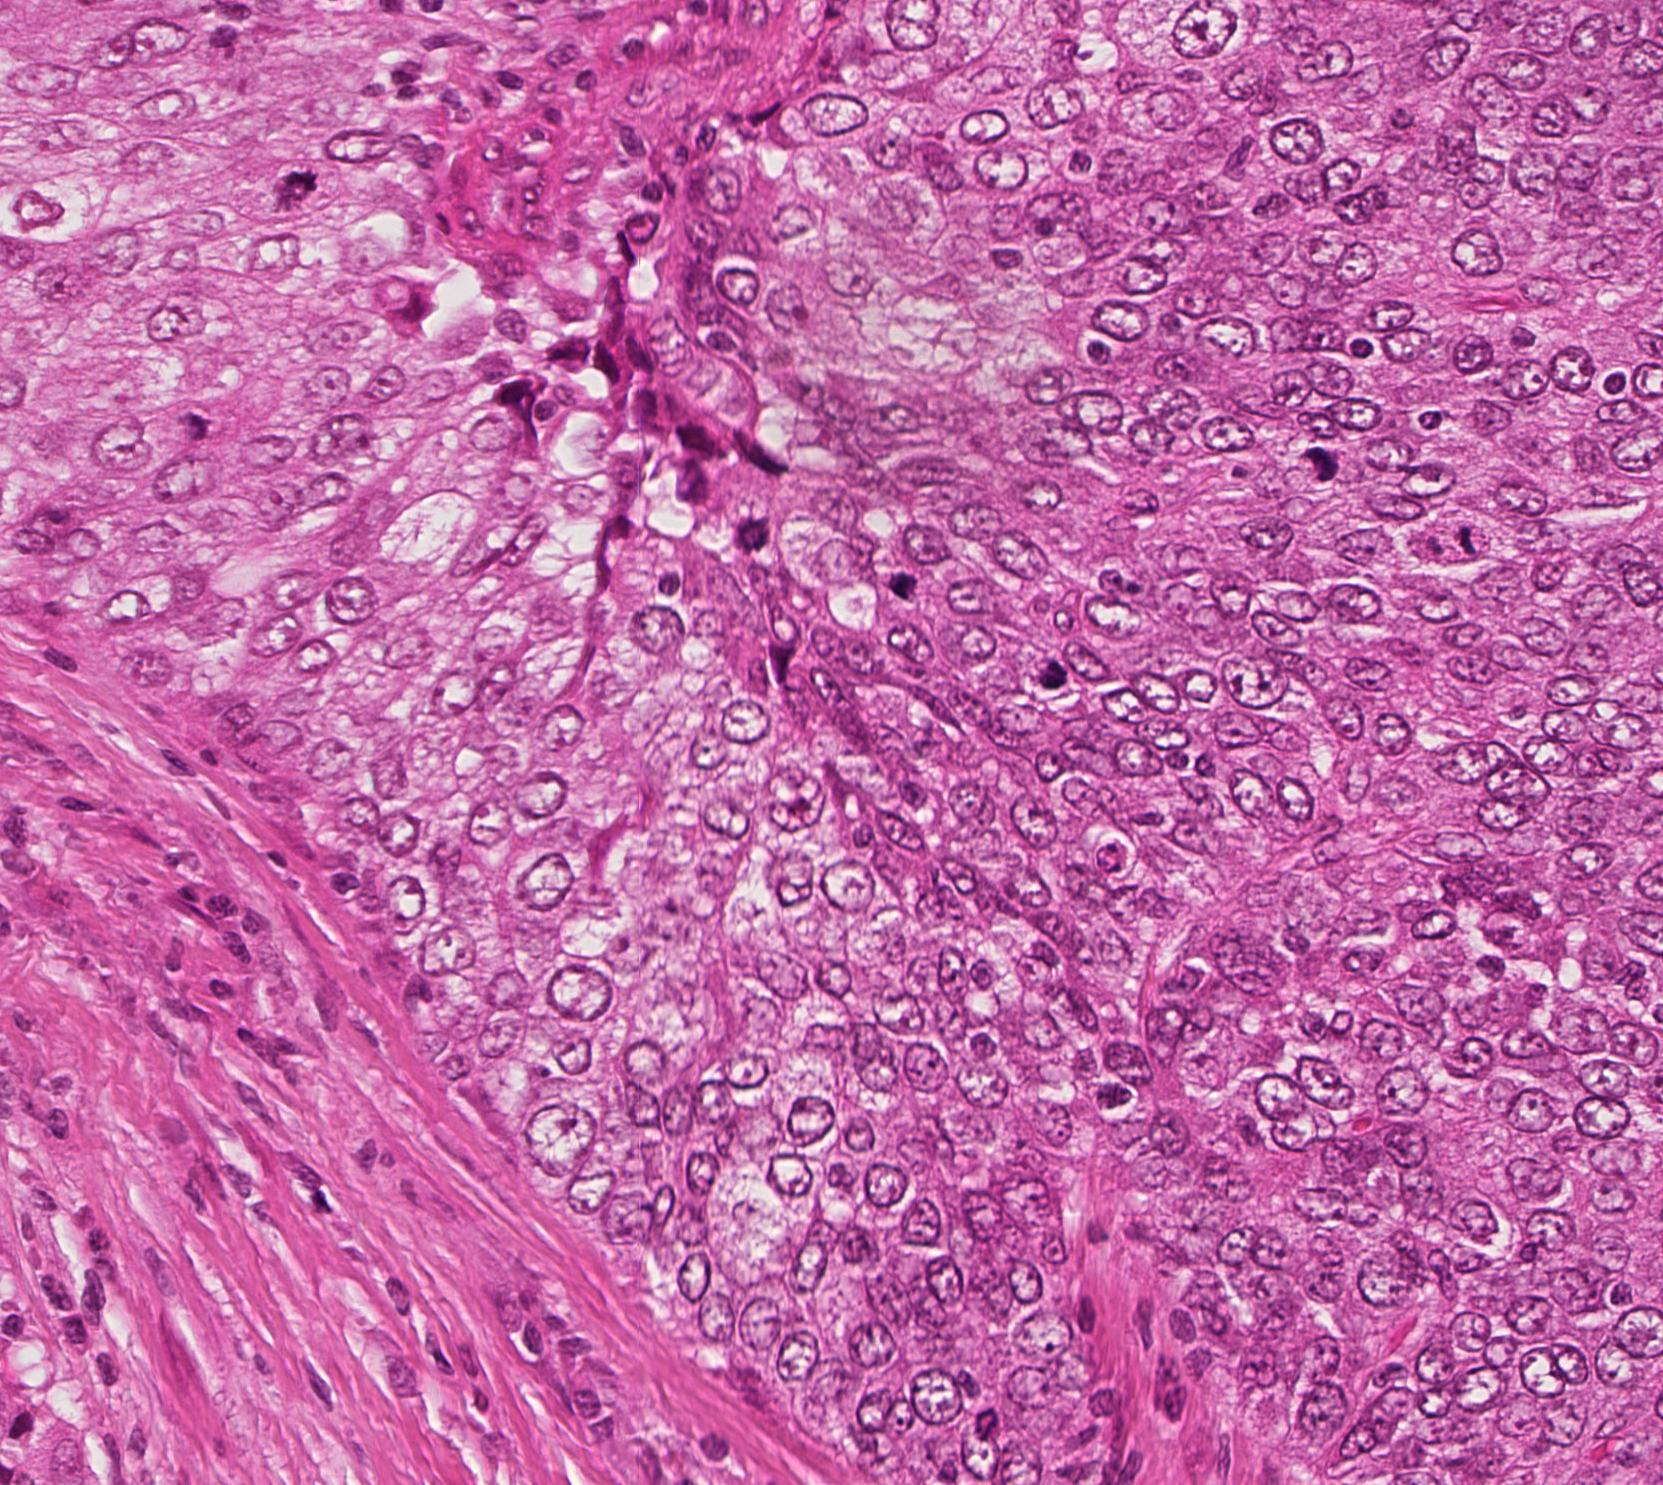mitosis: (1028, 639, 1088, 699), (1424, 510, 1484, 570), (166, 394, 227, 454), (267, 153, 325, 214), (876, 548, 936, 606), (723, 505, 781, 563)
